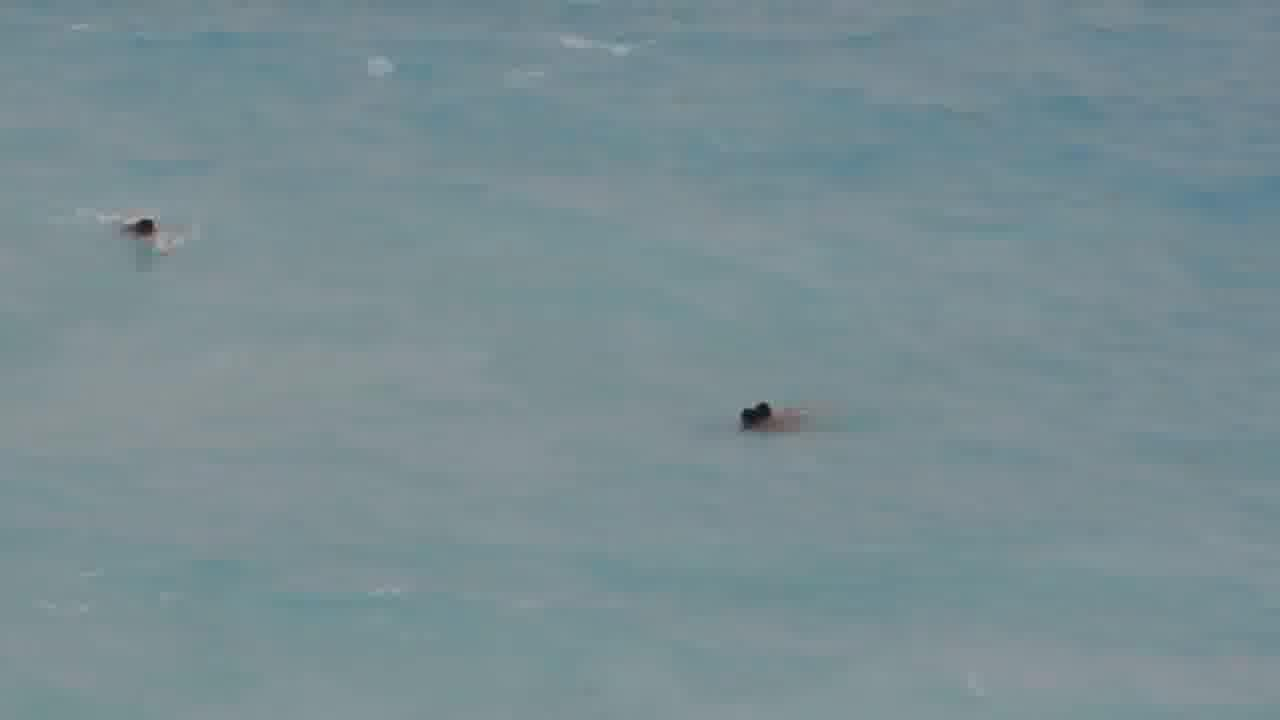human: (728, 386, 810, 445), (108, 205, 185, 257), (748, 383, 821, 429)
